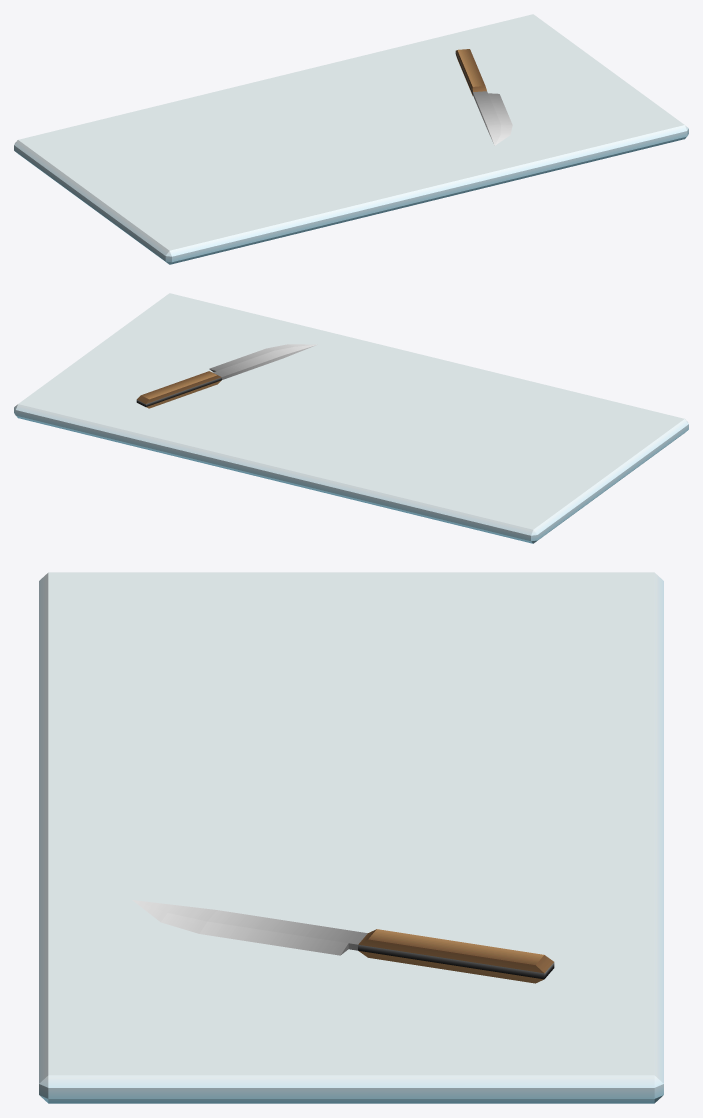
Rendered from Cuttingboard&Knife.FBX.
The picture shows the model from 3 angles, top to bottom: view 1: azimuth 30°, elevation 25°; view 2: azimuth 150°, elevation 25°; view 3: azimuth 270°, elevation 25°; orthographic projection. The views are drawn at different scales.
Parts seen in each view (by area): view 1: Cutting Board, Knife; view 2: Cutting Board, Knife; view 3: Cutting Board, Knife.
Part boxes in pixels (x1,y1,x2,y2): Cutting Board: (14,14,688,264); Knife: (455,49,512,145); Cutting Board: (14,293,688,543); Knife: (136,344,317,408); Cutting Board: (39,572,663,1103); Knife: (132,900,554,983).
Bounding box in the file's own units: 23.66 × 1.03 × 12.23.
1 material, 1 textured.
